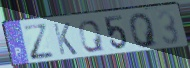3: (157, 9, 181, 47)
5: (102, 16, 129, 52)
K: (52, 21, 79, 57)
Q: (127, 12, 160, 50), (77, 19, 106, 54)
Z: (21, 22, 57, 62)
